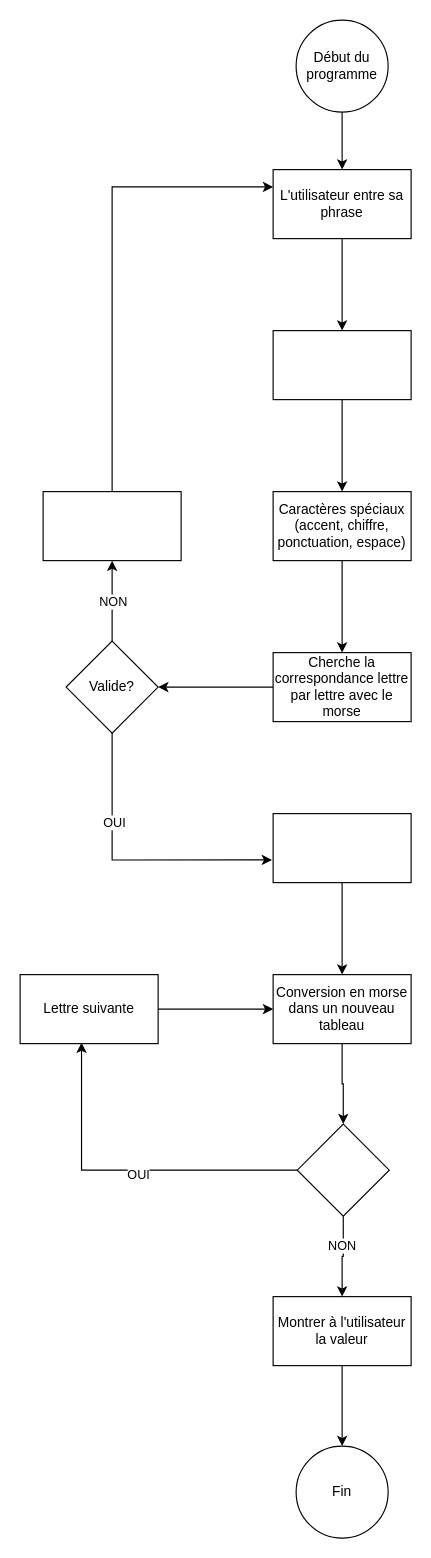
The diagram is 431 pixels wide and 1558 high, and some of its shapes have lost their labels. Here are the shapes that lost their labels. From the top down, the centre of each, then its label:
At (x=341, y=364): "Ajouter au tableau (chaque lettre de la phrase devient une entrée)".
At (x=111, y=525): "signalé clairement, sans faire planter le programme".
At (x=341, y=847): "Tout en majuscule".
At (x=342, y=1169): "Encore une lettre?".
